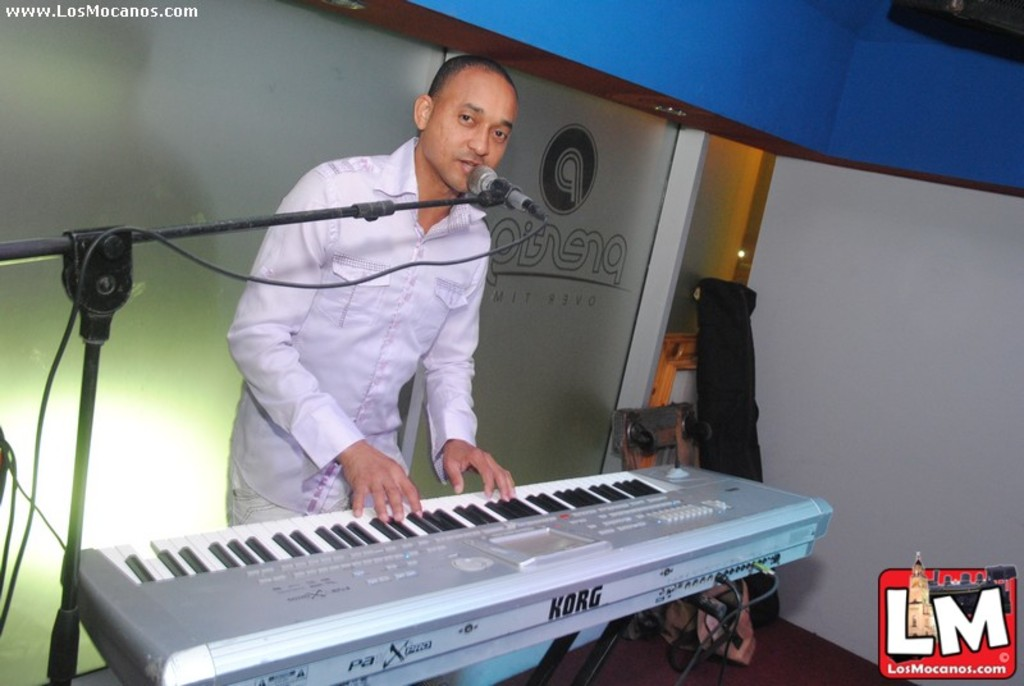Person: (225, 54, 518, 520)
